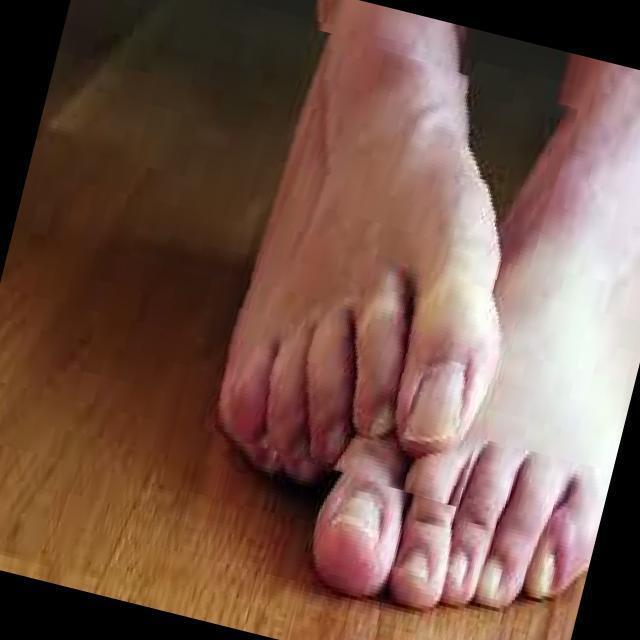No_Shoes: (321, 120, 640, 617), (201, 47, 490, 465)
